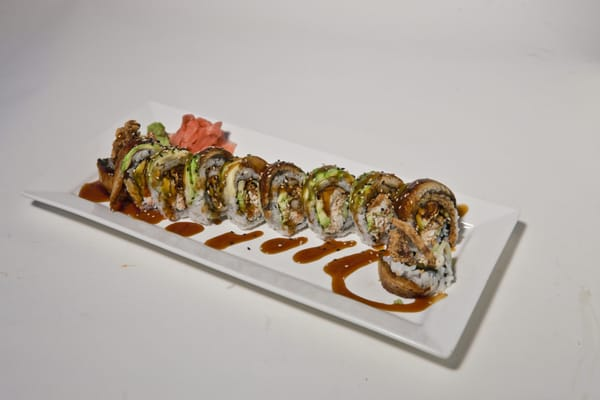soup: (348, 171, 463, 298)
